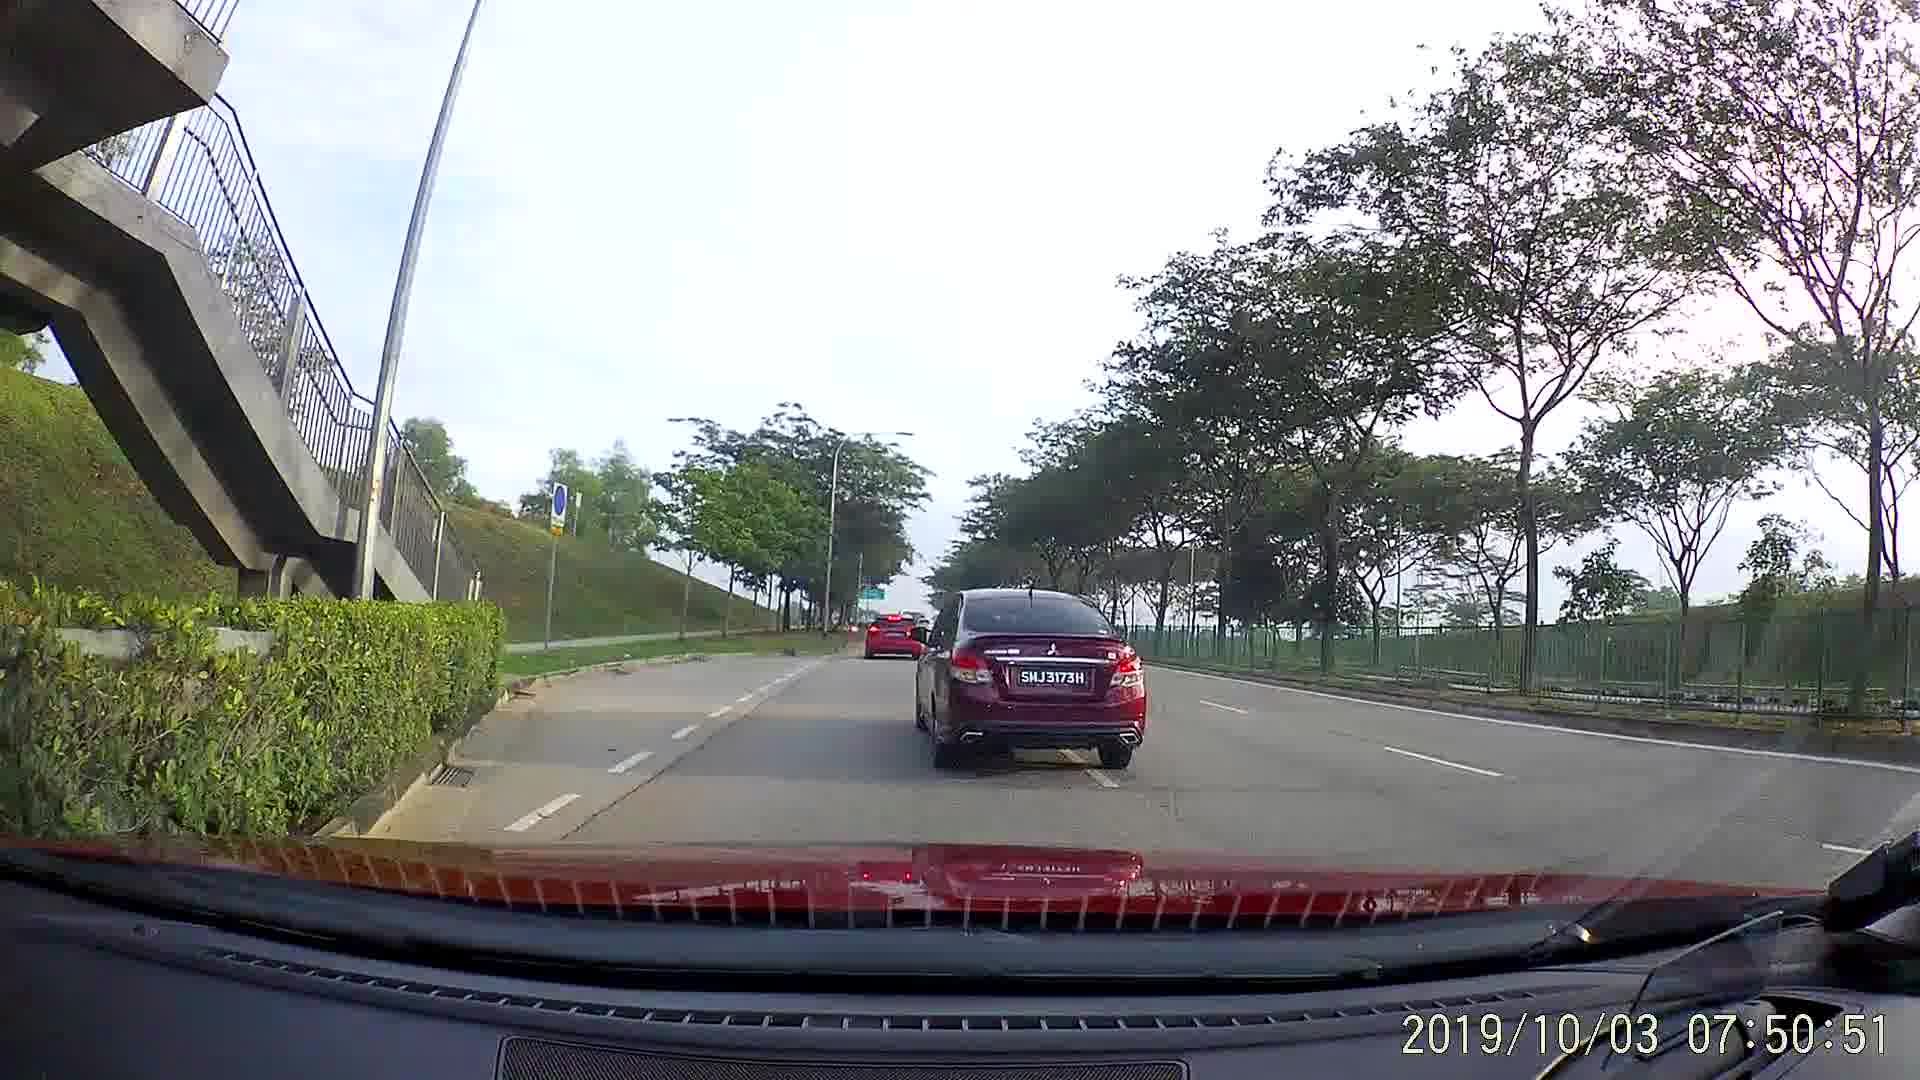car: (916, 589, 1149, 778), (857, 604, 928, 665)
